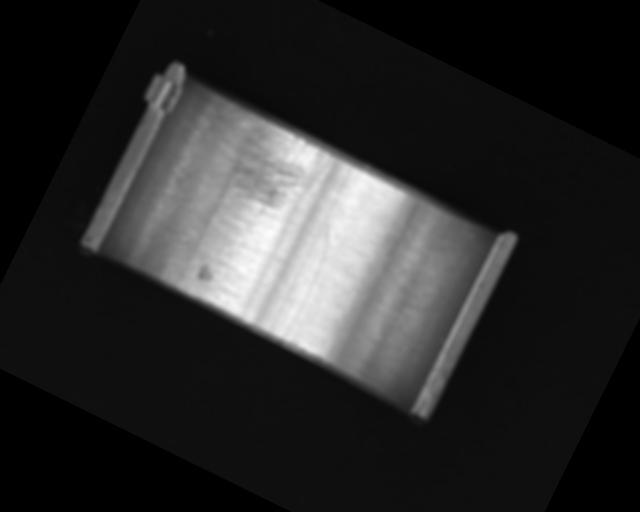bruise: (194, 261, 218, 286)
nick: (269, 220, 342, 344)
scratch: (194, 103, 340, 237)
